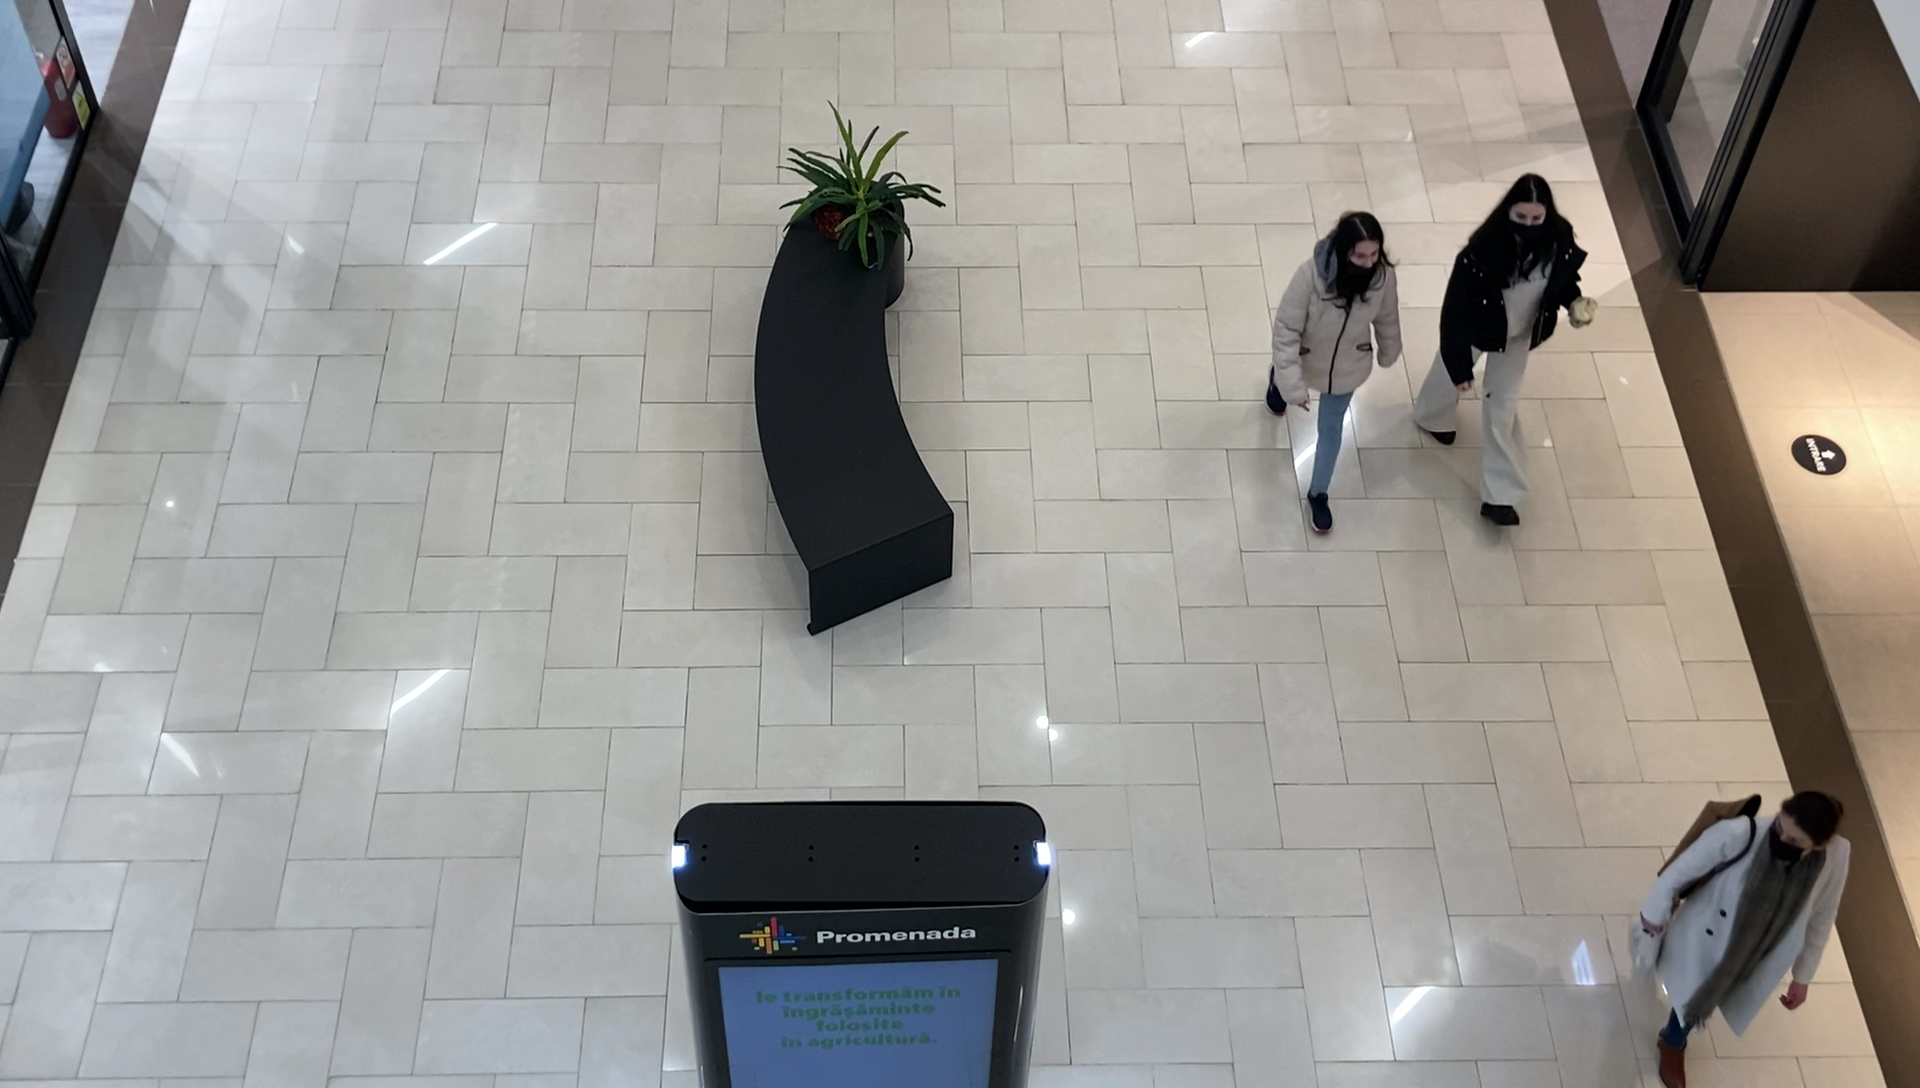person: (1417, 171, 1595, 531), (1645, 792, 1850, 1088), (1266, 211, 1395, 537)
